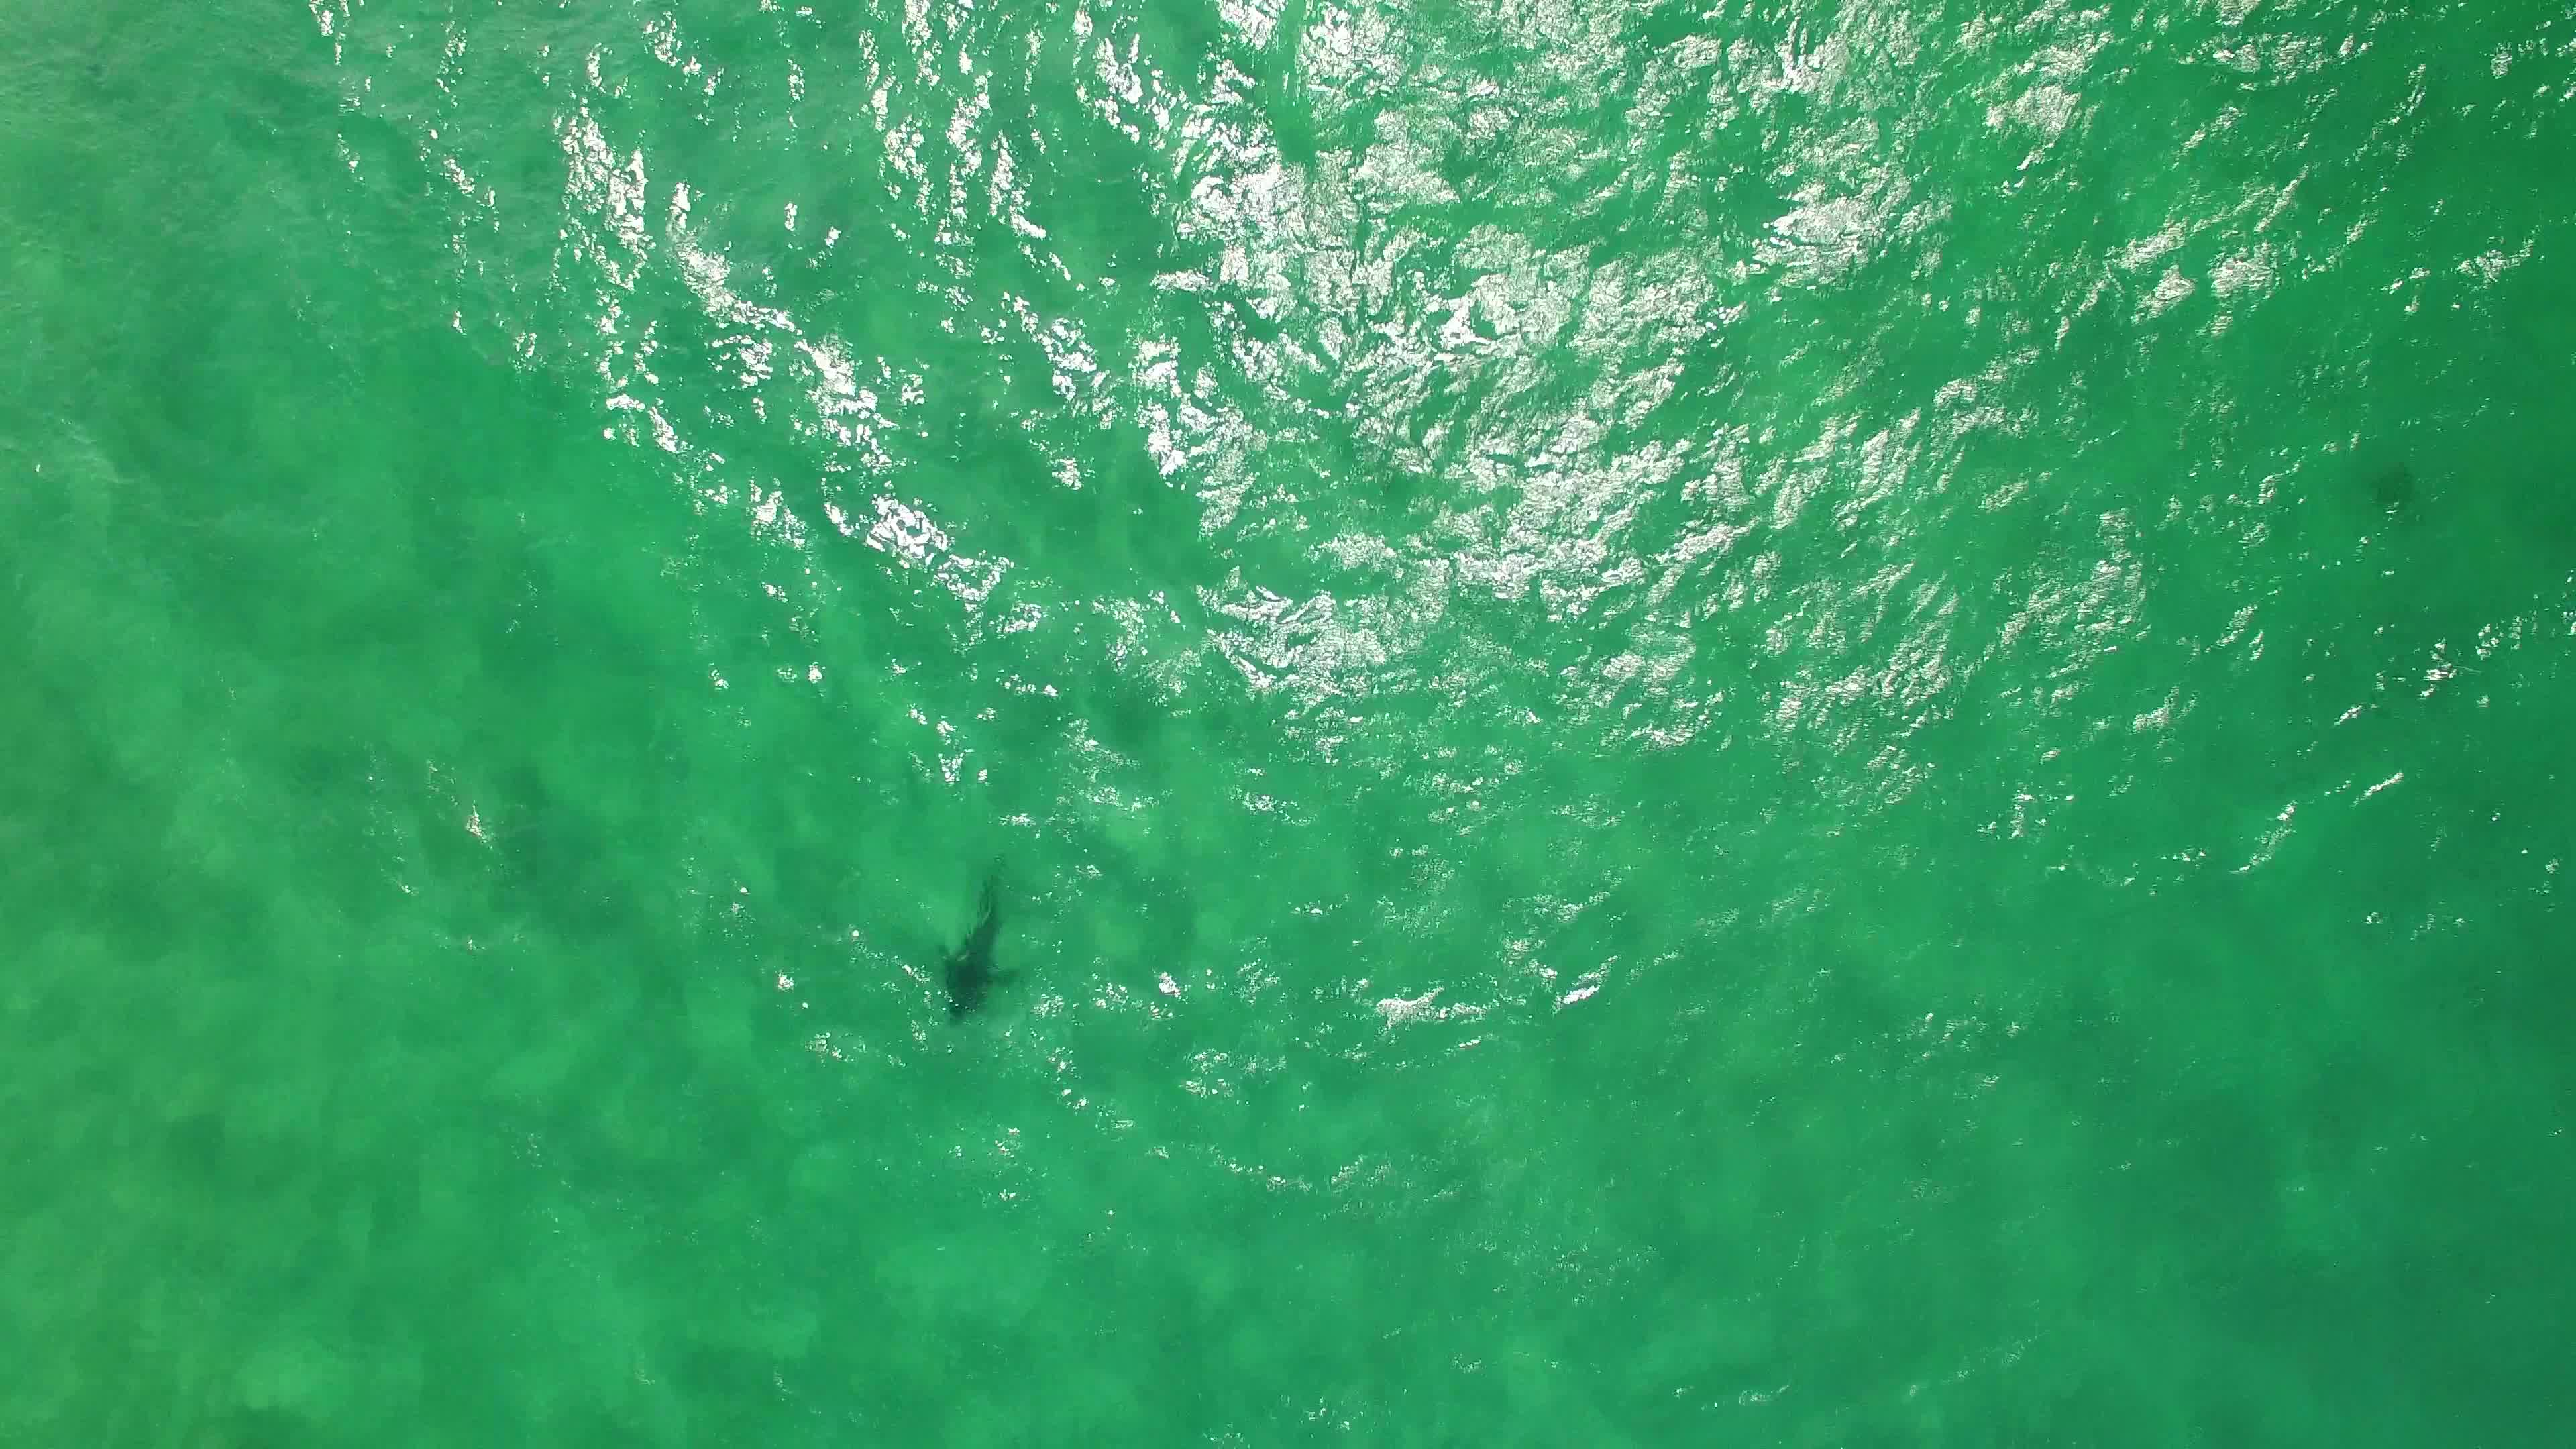shark: (924, 856, 1031, 1030)
